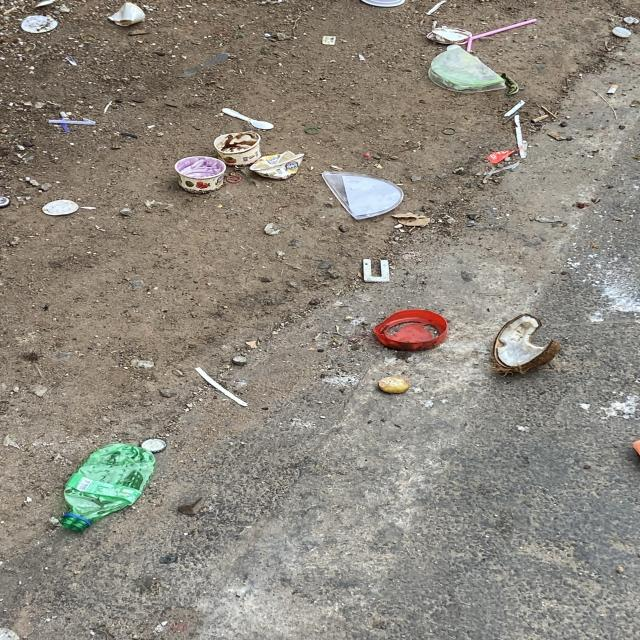biowaste: (492, 314, 562, 375)
paper: (426, 24, 473, 44)
plastic: (59, 444, 154, 532), (372, 309, 447, 351), (174, 156, 225, 193), (213, 131, 261, 166), (249, 150, 304, 179), (221, 107, 274, 129), (108, 1, 144, 25)
